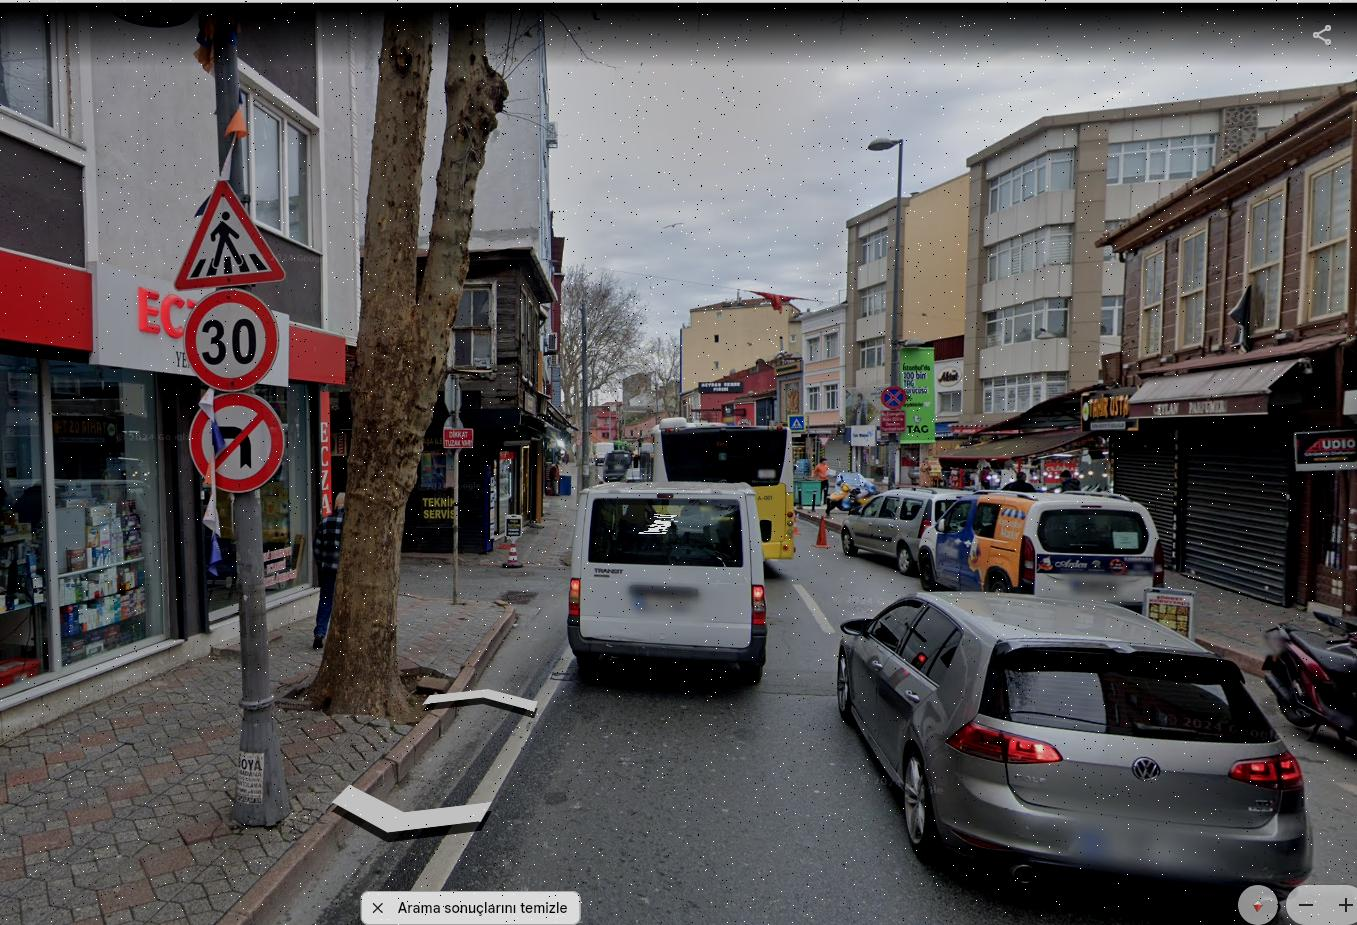leftturnsareforbidden: (198, 395, 283, 483)
